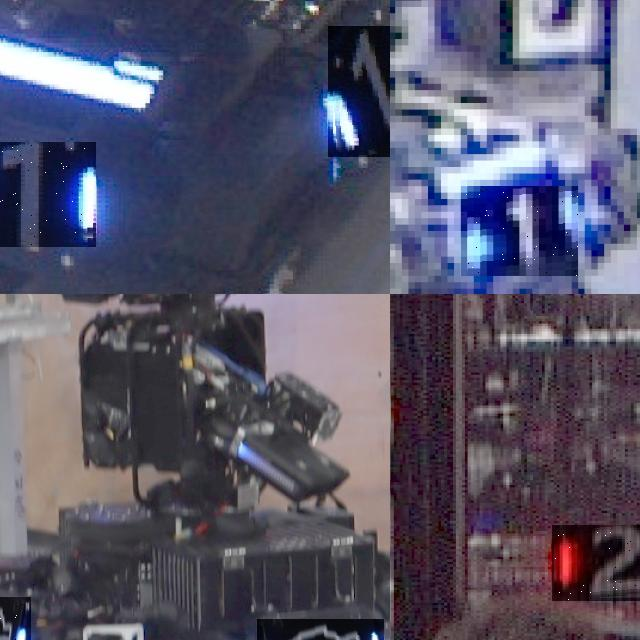B1: (461, 186, 578, 276), (0, 142, 96, 246), (327, 26, 390, 158)
Bs: (257, 619, 383, 640), (0, 597, 30, 640)
R2: (552, 524, 640, 601)
